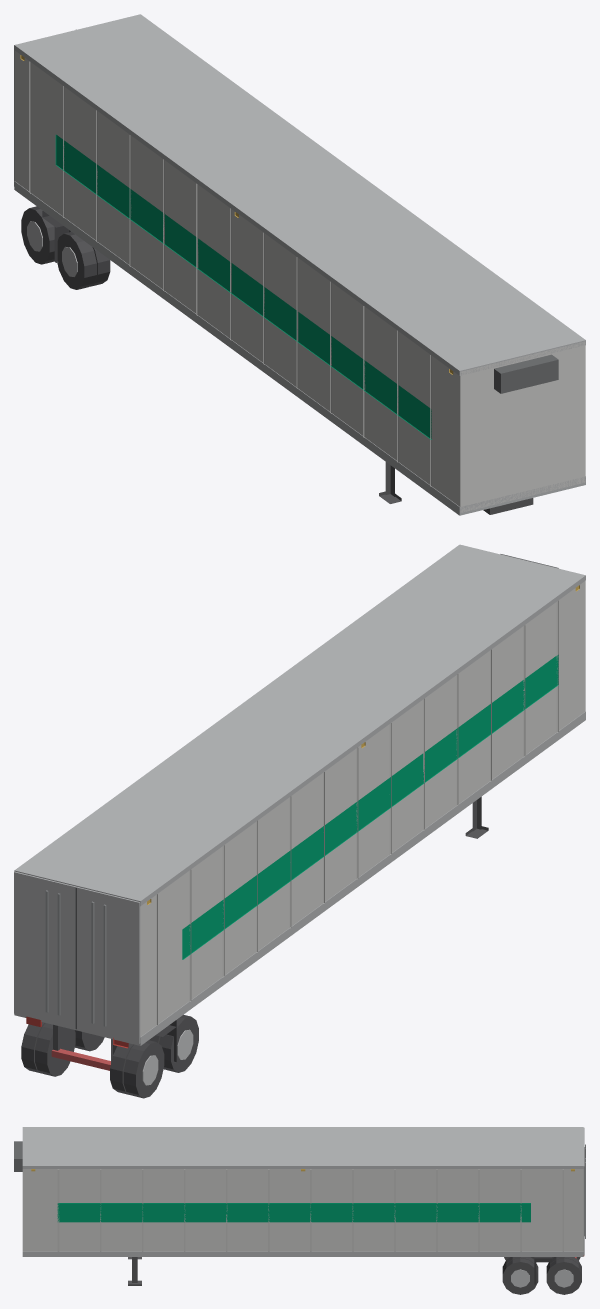
File: trailer_box.glb
The picture shows the model from 3 angles, top to bottom: view 1: azimuth 30°, elevation 25°; view 2: azimuth 150°, elevation 25°; view 3: azimuth 270°, elevation 25°; orthographic projection. The views are drawn at different scales.
Visible parts, largest first — view 1: trailer_box; view 2: trailer_box; view 3: trailer_box.
Boxes of the visible parts, x1,y1,x2,y2 form: trailer_box: (14, 14, 585, 515); trailer_box: (14, 544, 585, 1098); trailer_box: (14, 1127, 585, 1294).
Bounding box in the file's own units: 2.65 × 4.12 × 16.32.
